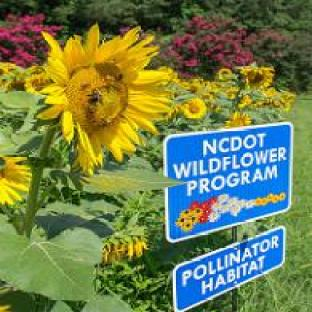sunflower: (38, 25, 176, 176), (26, 165, 43, 239)
